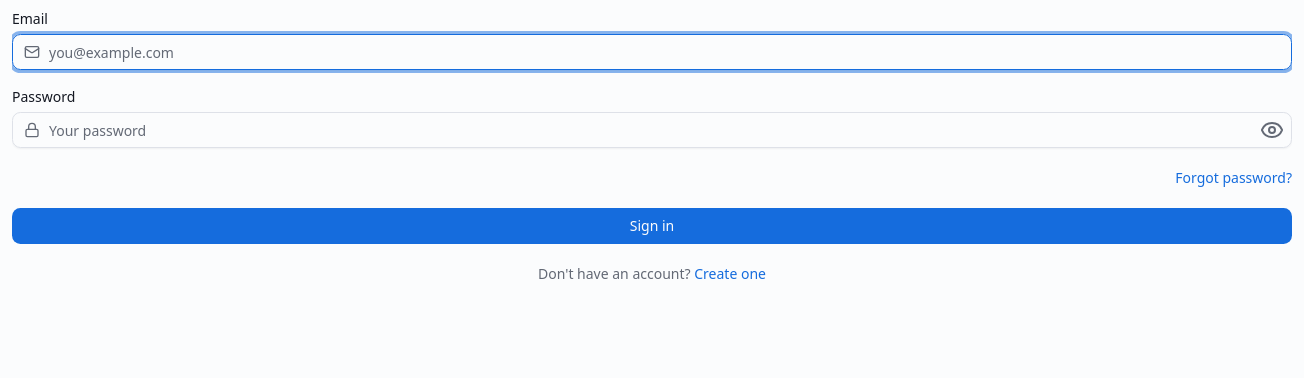
Test: LoginForm › offers a resend link when the backend answers 403 EMAIL_NOT_VERIFIED
Type "admin@example.com" into the field labelled "Email". click: (652, 52)
box: [12, 34, 1292, 70]
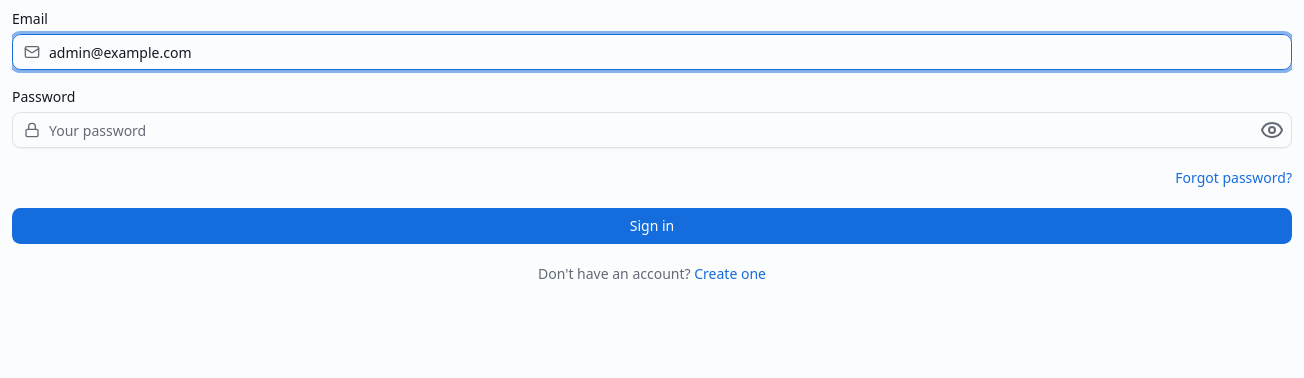
Type "DemoPass123!" into the password field labelled "Password". click: (652, 130)
box: [12, 112, 1292, 148]
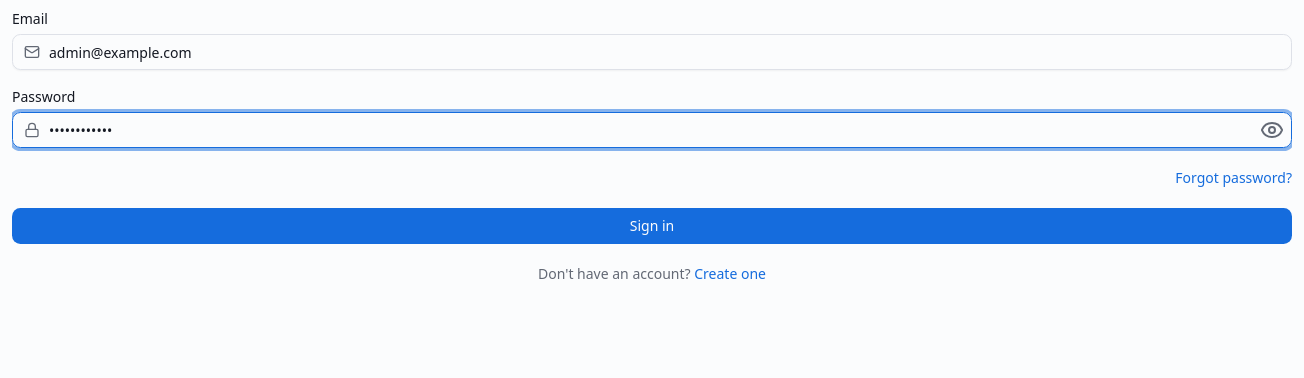
Click the button "Sign in". click: click(652, 226)
box: [12, 208, 1292, 244]
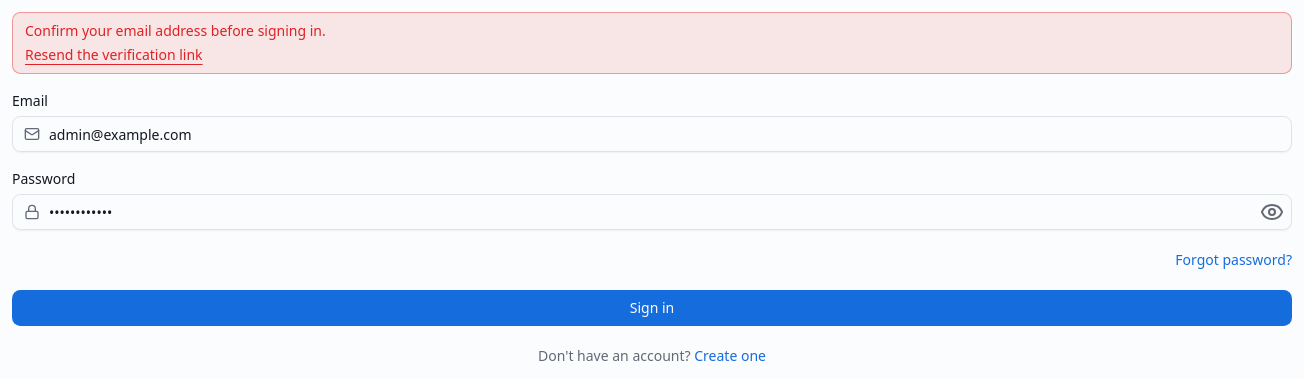
Check: the message shows "Confirm your email", box [25, 21, 326, 40]
Click the button "Resend the verification link". click: click(114, 55)
box: [25, 45, 202, 65]
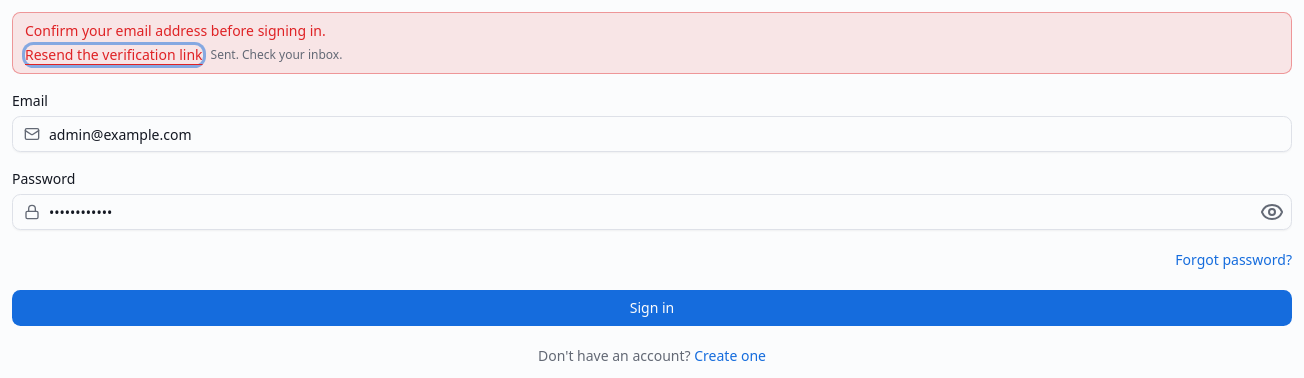
Check: the text "Sent. Check your inbox." is shown, box [210, 47, 342, 63]
